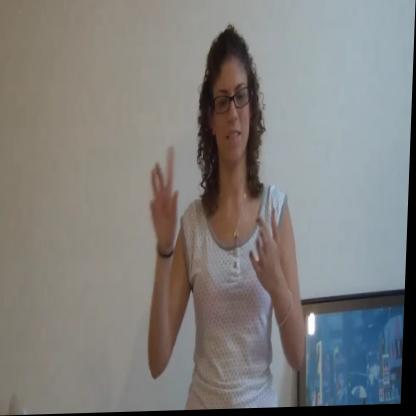NiceToMeetYou: (142, 141, 290, 304)
